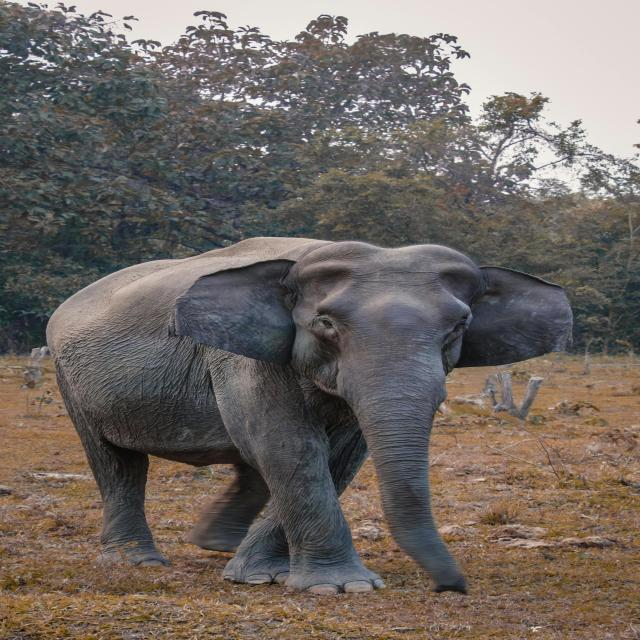Elephant: (42, 235, 580, 596)
